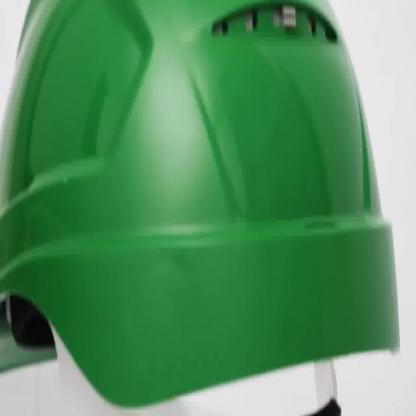helmet: (0, 0, 403, 415)
